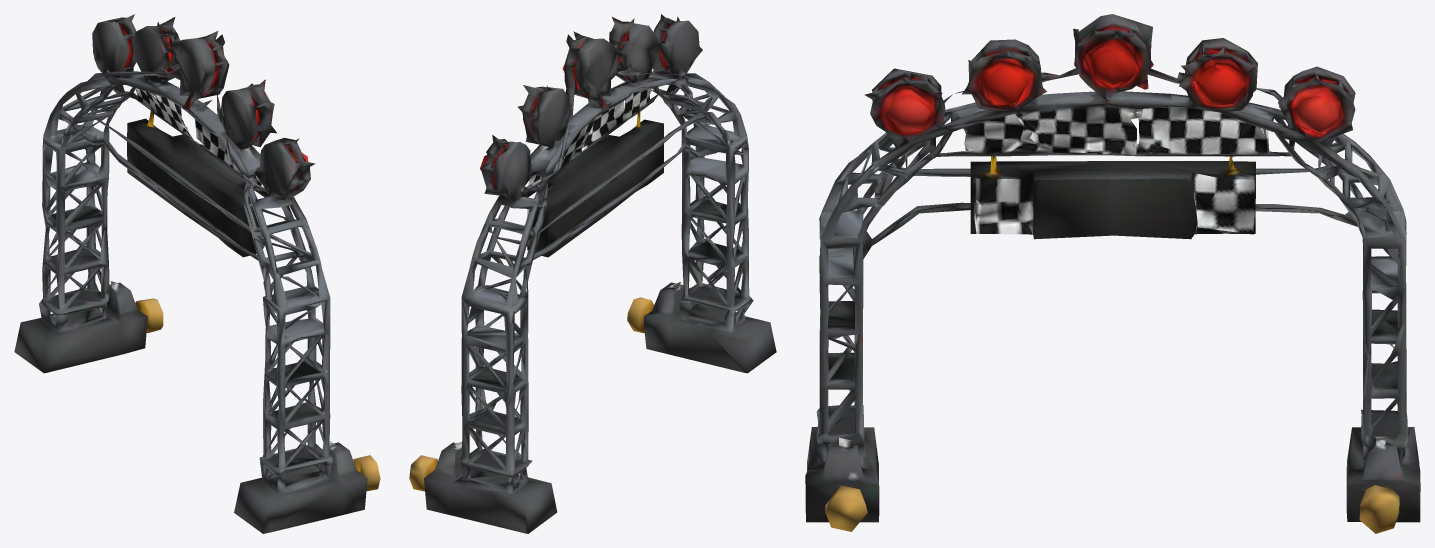
File: gantry.glb
3 renders of one model, left to right at view 1: azimuth 30°, elevation 25°; view 2: azimuth 150°, elevation 25°; view 3: azimuth 270°, elevation 25°, orthographic. The views are drawn at different scales.
Visible parts, largest first — view 1: tripo_node_dc082cd6-ff6d-48c3-83a2-12e128fe0a70; view 2: tripo_node_dc082cd6-ff6d-48c3-83a2-12e128fe0a70; view 3: tripo_node_dc082cd6-ff6d-48c3-83a2-12e128fe0a70.
Boxes of the visible parts, x1=… form: tripo_node_dc082cd6-ff6d-48c3-83a2-12e128fe0a70: x1=14, y1=14, x2=380, y2=533; tripo_node_dc082cd6-ff6d-48c3-83a2-12e128fe0a70: x1=409, y1=14, x2=776, y2=533; tripo_node_dc082cd6-ff6d-48c3-83a2-12e128fe0a70: x1=805, y1=14, x2=1420, y2=533.
Bounding box in the file's own units: 0.2973 × 0.8635 × 0.9997.
Materials: 1 (1 with a texture image).
